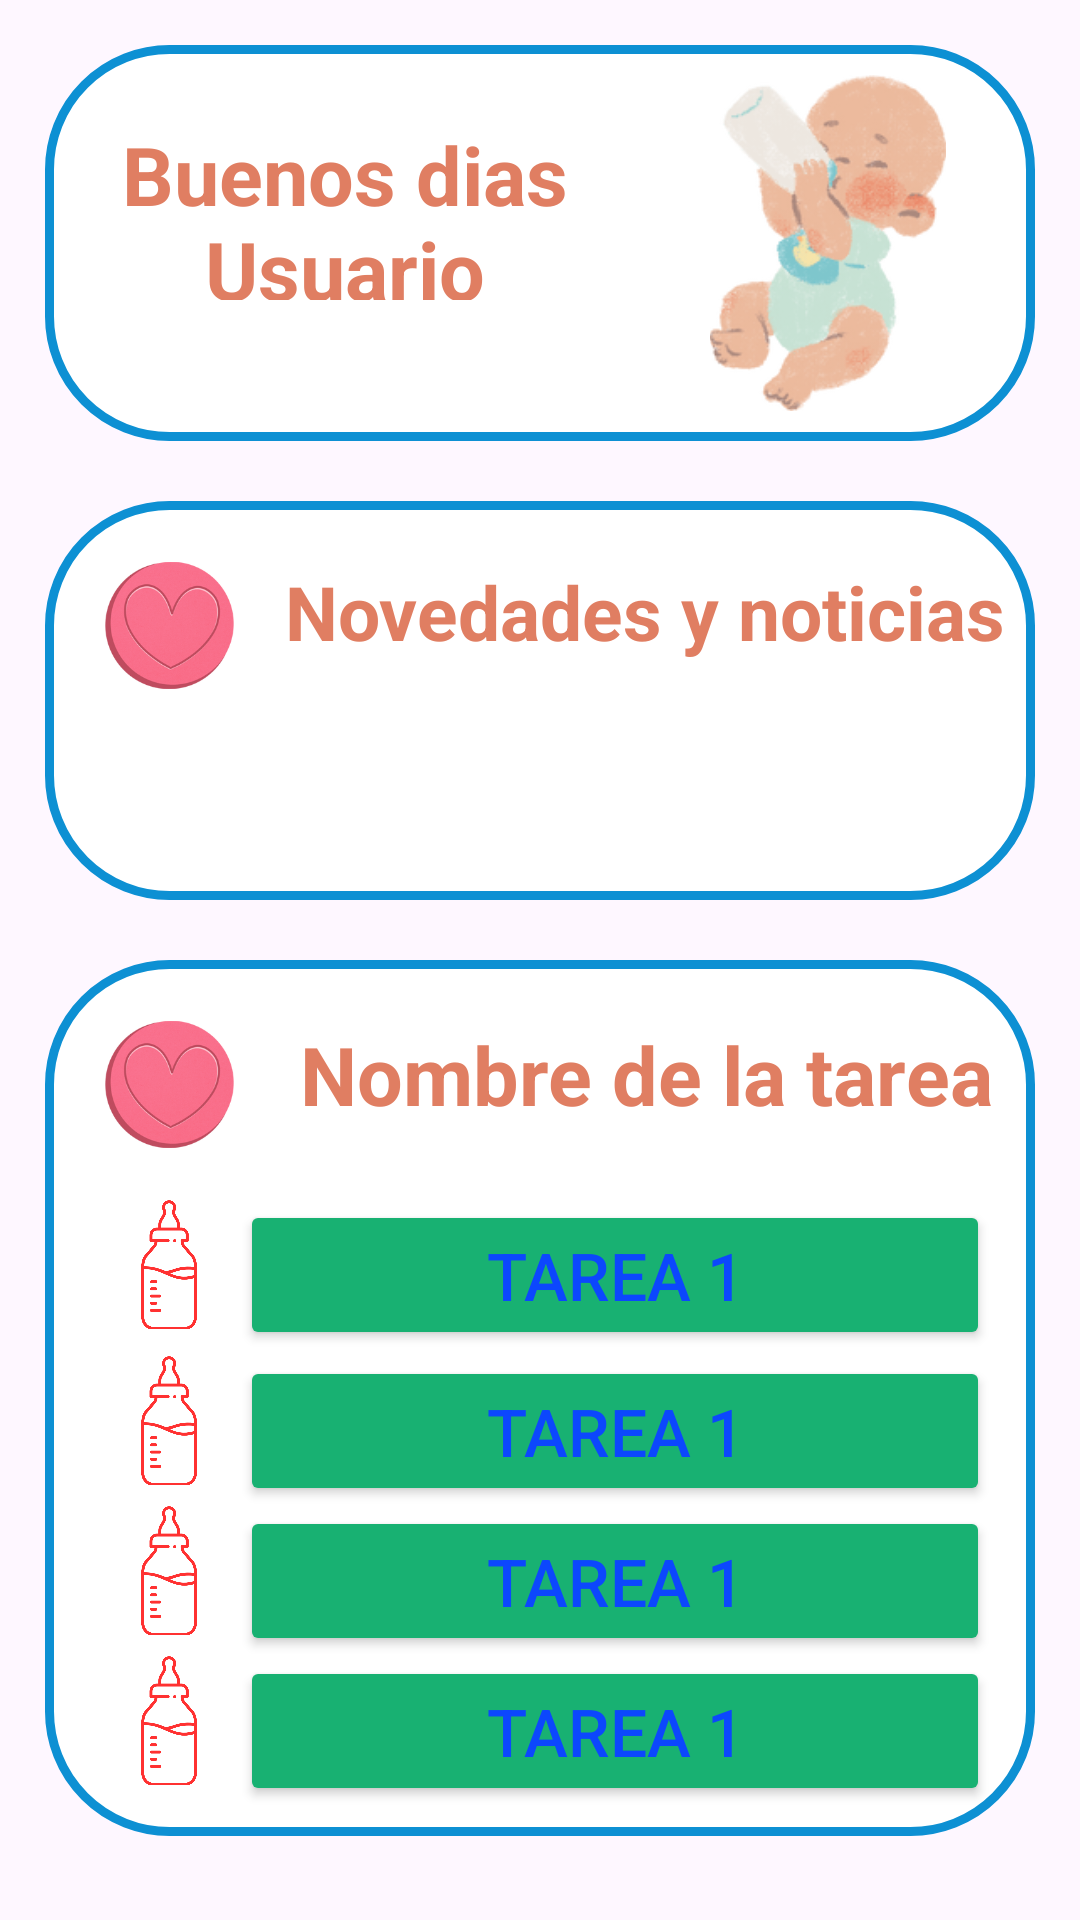

Locate icon controls on the screen. Image size 1080px x 1920px, boxes as (x1, y1, x2, y2).
corazon: (105, 562, 234, 689), (105, 1021, 234, 1148)
